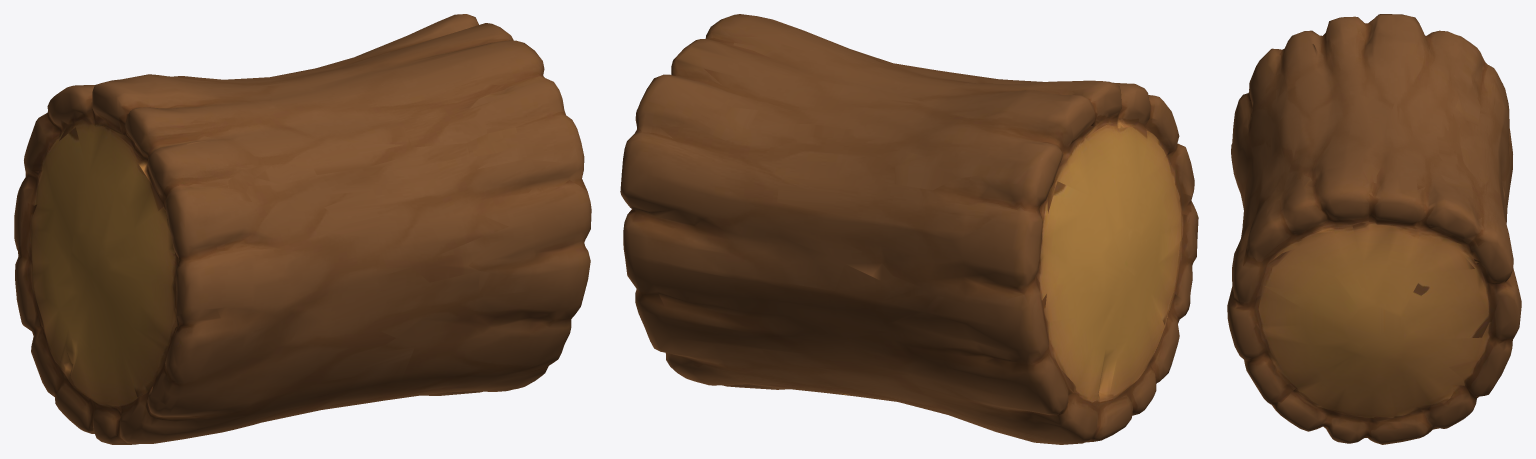
File: selected_sliceable.glb
3 renders of one model, left to right at view 1: azimuth 30°, elevation 25°; view 2: azimuth 150°, elevation 25°; view 3: azimuth 270°, elevation 25°, orthographic. The views are drawn at different scales.
Visible parts, largest first — view 1: WORK_Log; view 2: WORK_Log; view 3: WORK_Log.
Part boxes in pixels (box(x1,y1,x2,y2)): WORK_Log: box(14, 14, 591, 444); WORK_Log: box(620, 14, 1198, 444); WORK_Log: box(1227, 14, 1521, 444).
Bounding box in the file's own units: 0.9977 × 0.7898 × 0.7152.
Materials: 1 (1 with a texture image).
